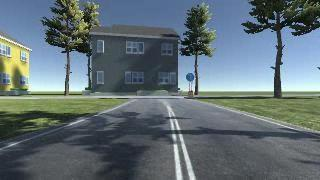turn_left: (186, 73, 194, 82)
